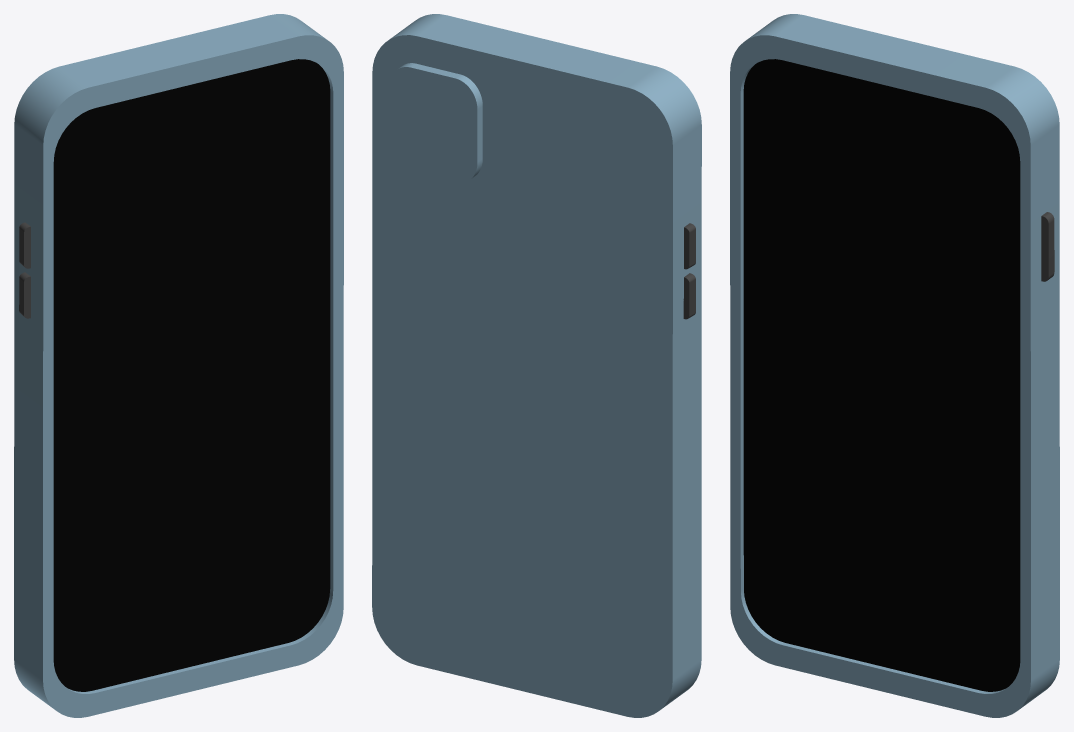
Rendered from low_poly_mobile_phone.glb.
3 renders of one model, left to right at view 1: azimuth 30°, elevation 25°; view 2: azimuth 150°, elevation 25°; view 3: azimuth 330°, elevation 25°, orthographic.
Visible parts, largest first — view 1: Phone_Case_PhoneFace_Mat_0, Phone_Camera_PhoneCase_Mat_0, Power_Button_PhoneButton_Mat_0; view 2: Phone_Camera_PhoneCase_Mat_0, Power_Button_PhoneButton_Mat_0; view 3: Phone_Case_PhoneFace_Mat_0, Phone_Camera_PhoneCase_Mat_0, Power_Button_PhoneButton_Mat_0.
Part boxes in pixels (x1=…): Phone_Case_PhoneFace_Mat_0: x1=53, y1=59, x2=330, y2=691; Phone_Camera_PhoneCase_Mat_0: x1=14, y1=14, x2=343, y2=717; Power_Button_PhoneButton_Mat_0: x1=19, y1=222, x2=30, y2=318; Phone_Camera_PhoneCase_Mat_0: x1=372, y1=14, x2=701, y2=717; Power_Button_PhoneButton_Mat_0: x1=683, y1=223, x2=695, y2=319; Phone_Case_PhoneFace_Mat_0: x1=743, y1=59, x2=1020, y2=691; Phone_Camera_PhoneCase_Mat_0: x1=730, y1=14, x2=1059, y2=717; Power_Button_PhoneButton_Mat_0: x1=1041, y1=212, x2=1054, y2=281.
Size of the model in its own units: 0.314 by 0.6 by 0.0593.
